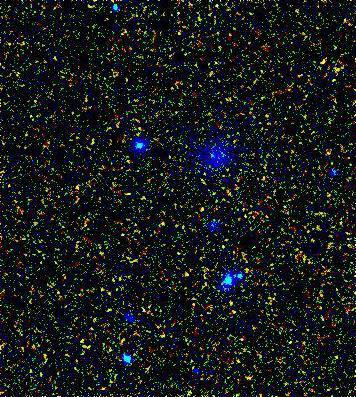star: (145, 206, 175, 236)
